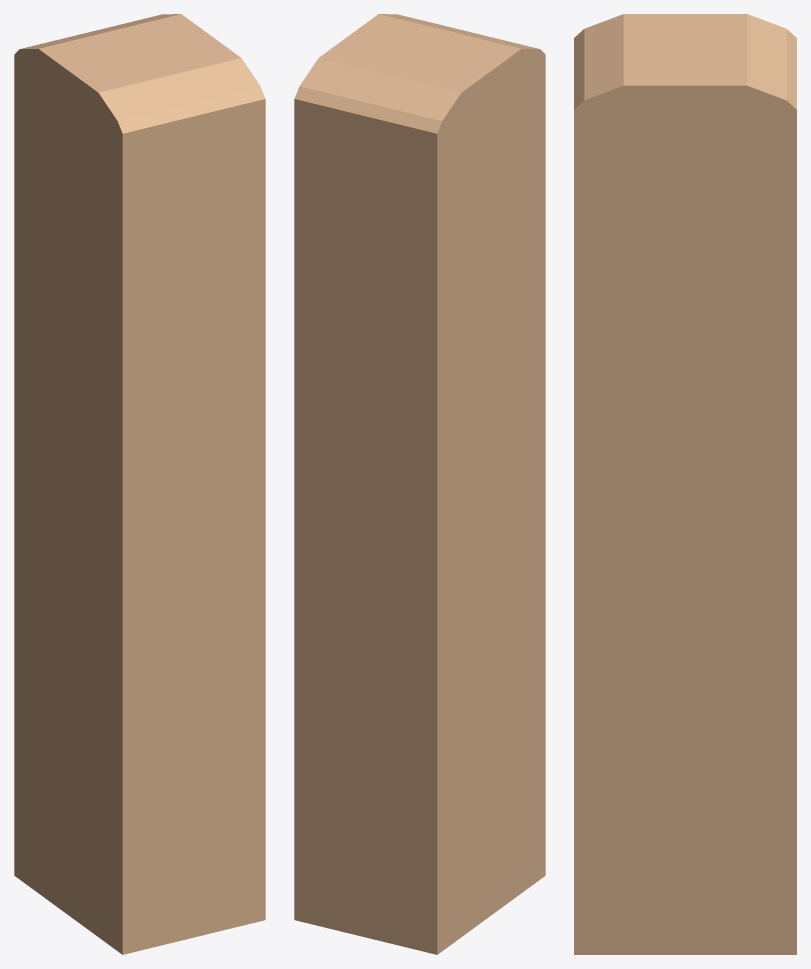
Rendered from Post A.glb.
3 views of the same model, side by side, from view 1: azimuth 30°, elevation 25°; view 2: azimuth 150°, elevation 25°; view 3: azimuth 270°, elevation 25° (orthographic). The views are drawn at different scales.
Visible parts, largest first — view 1: Post A; view 2: Post A; view 3: Post A.
Part boxes in pixels (bbox=[...]): Post A: bbox=[14, 14, 265, 954]; Post A: bbox=[294, 14, 545, 954]; Post A: bbox=[574, 14, 796, 954].
Bounding box in the file's own units: 0.0832 × 0.4697 × 0.1091.
